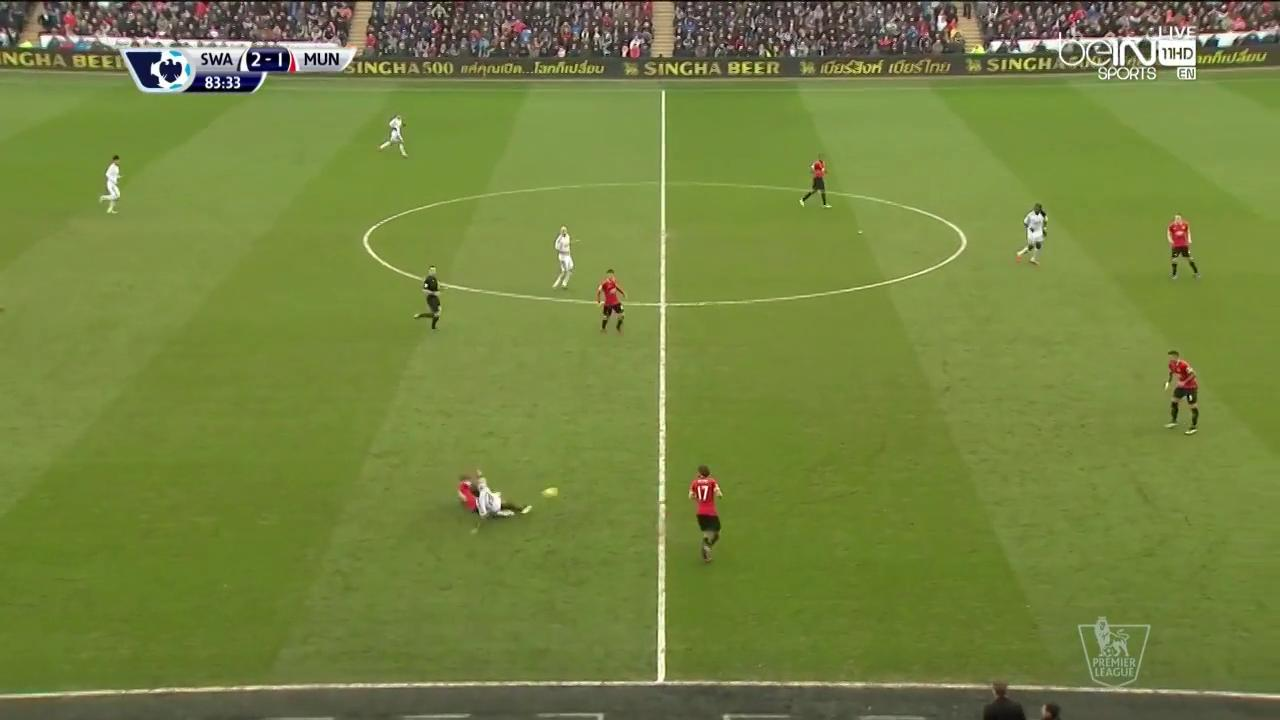football: (542, 486, 558, 499)
